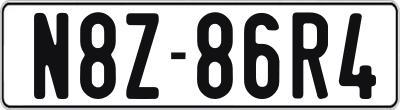4: (338, 10, 376, 102)
6: (241, 13, 282, 100)
8: (79, 10, 121, 98), (194, 10, 233, 103)
N: (32, 11, 68, 98)
R: (292, 10, 330, 97)
Z: (123, 10, 156, 97)
